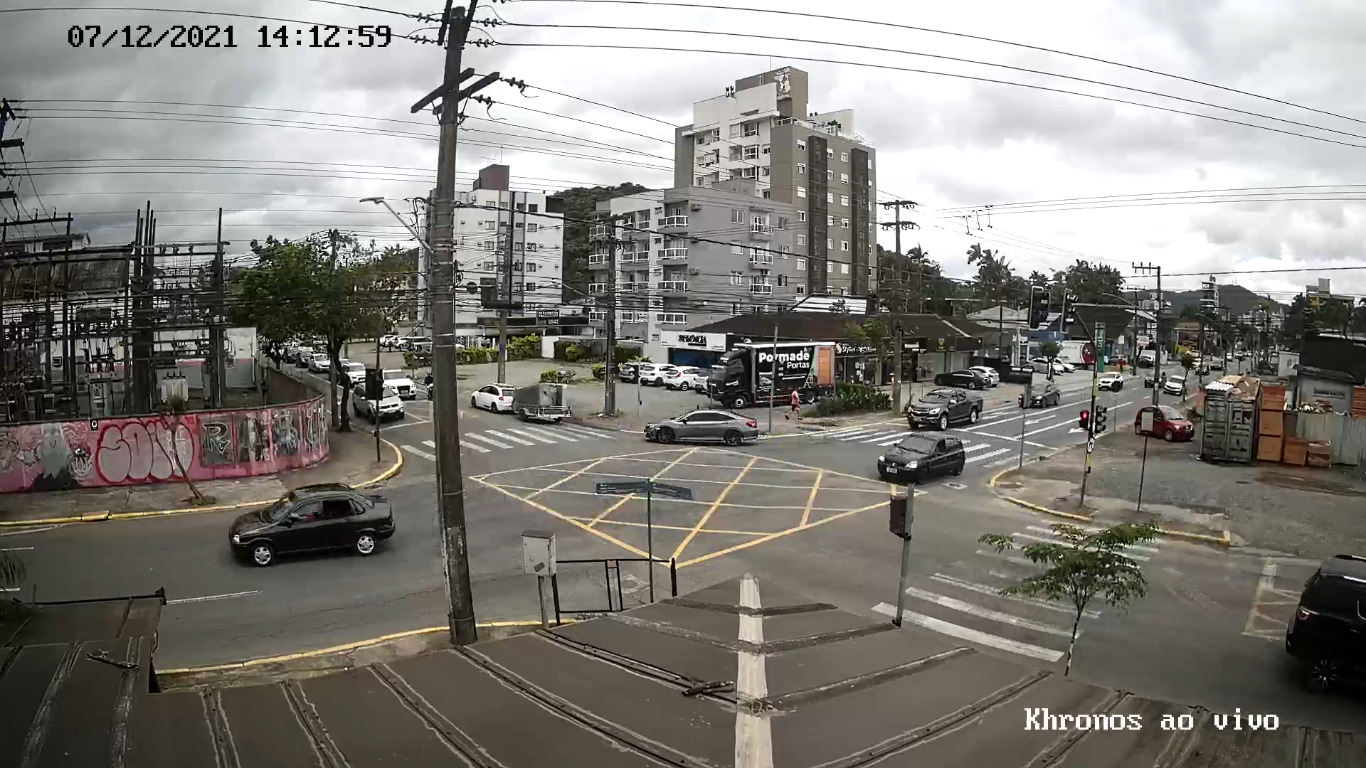car: (229, 483, 396, 567), (1285, 553, 1366, 691), (878, 431, 965, 487), (642, 409, 759, 447)
